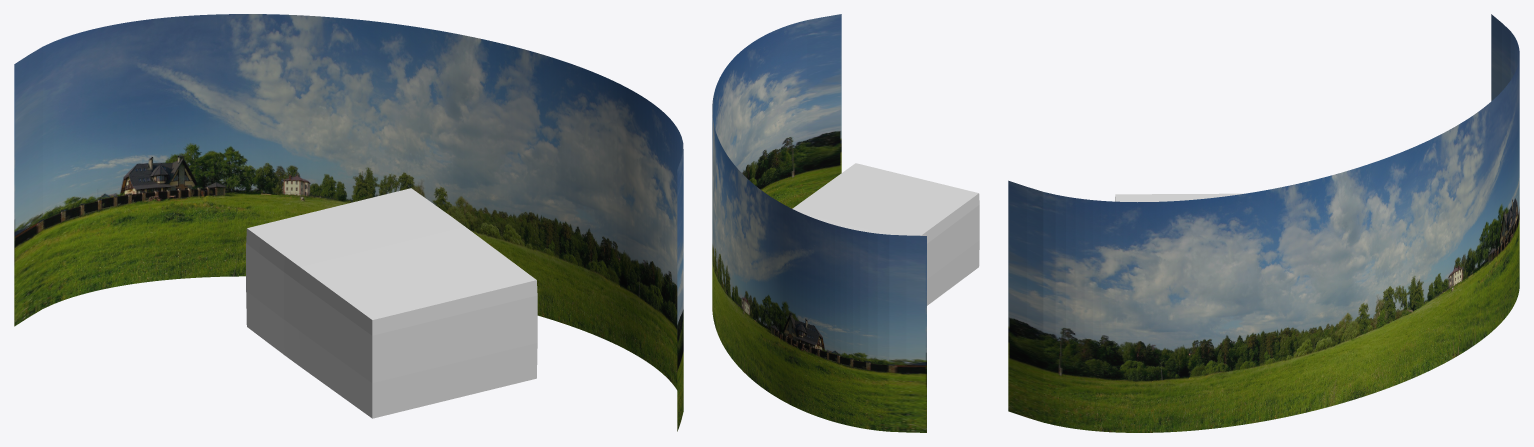
The model's file is models.glb.
The picture shows the model from 3 angles, left to right: view 1: azimuth 30°, elevation 25°; view 2: azimuth 150°, elevation 25°; view 3: azimuth 270°, elevation 25°; orthographic projection. The views are drawn at different scales.
Parts seen in each view (by area): view 1: Plane.001, outwall; view 2: Plane.001, outwall; view 3: Plane.001, outwall.
Boxes of the visible parts, x1=… form: Plane.001: x1=14, y1=14, x2=683, y2=431; outwall: x1=246, y1=188, x2=537, y2=418; Plane.001: x1=712, y1=14, x2=926, y2=432; outwall: x1=792, y1=163, x2=979, y2=305; Plane.001: x1=1008, y1=14, x2=1519, y2=432; outwall: x1=1115, y1=193, x2=1243, y2=202.
Bounding box in the file's own units: 145 × 82.81 × 166.
Materials: 56 (13 with a texture image).
